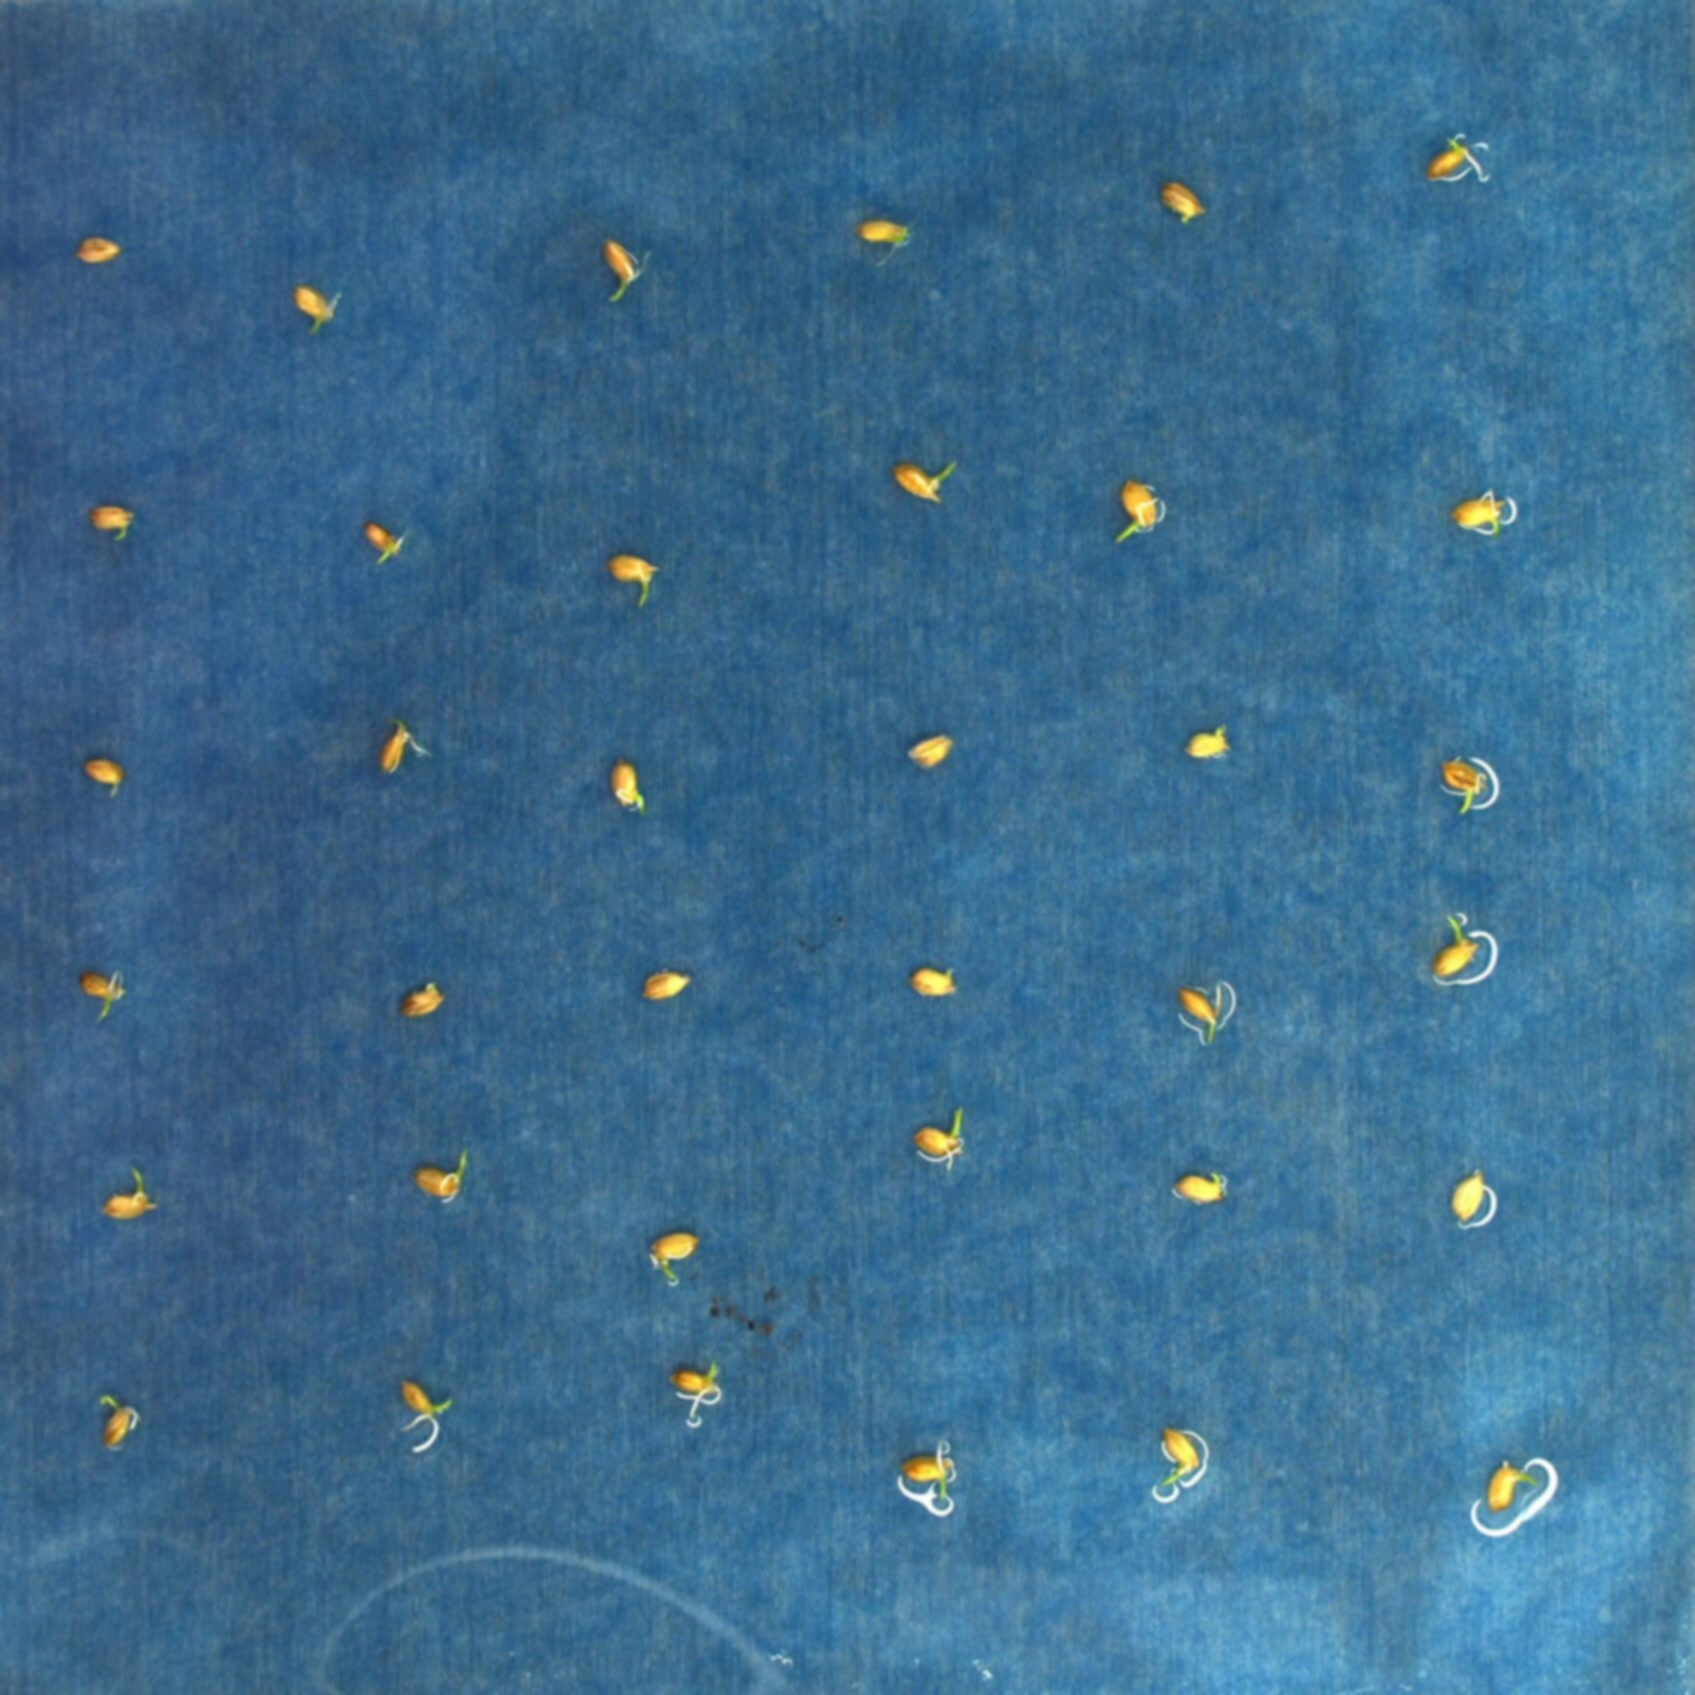not sprout: (893, 1434, 978, 1510), (1101, 466, 1177, 549), (622, 1226, 723, 1284), (1167, 976, 1243, 1049), (1144, 1426, 1217, 1501), (1423, 123, 1499, 194), (666, 1360, 733, 1433), (95, 1158, 166, 1225), (1437, 756, 1499, 832), (407, 1141, 470, 1214), (360, 709, 435, 771), (598, 542, 664, 608), (1447, 489, 1524, 542), (1442, 1161, 1498, 1234), (287, 278, 352, 335), (1153, 169, 1218, 227), (632, 961, 709, 1007), (82, 492, 140, 554), (885, 463, 964, 508), (1173, 1166, 1239, 1218), (906, 955, 965, 1012), (95, 1389, 151, 1450), (602, 754, 653, 820), (1478, 1454, 1535, 1512), (82, 745, 135, 807), (906, 722, 958, 776), (1183, 722, 1250, 761), (362, 518, 413, 565), (397, 972, 444, 1018), (854, 213, 913, 248), (68, 230, 123, 267)
sprout: (390, 1371, 463, 1461), (903, 1101, 973, 1177), (588, 231, 664, 300), (75, 958, 135, 1029), (1431, 916, 1493, 981)
